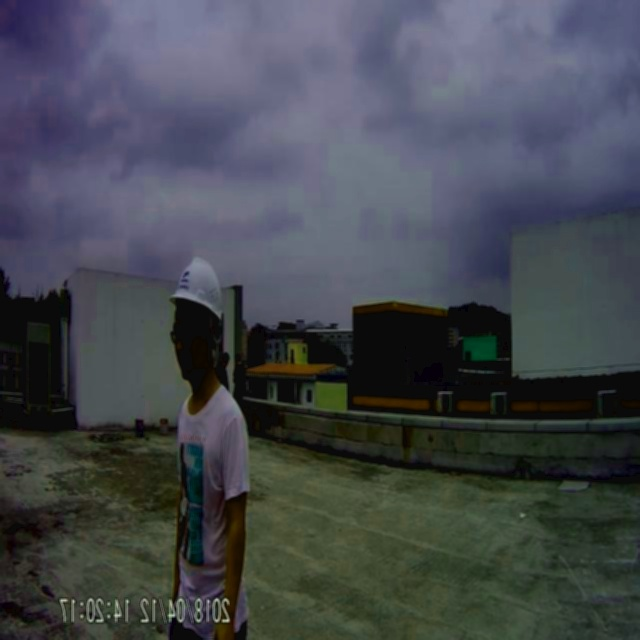Con_Casco: (169, 255, 224, 378)
Sin_Chaleco: (172, 389, 249, 602)
